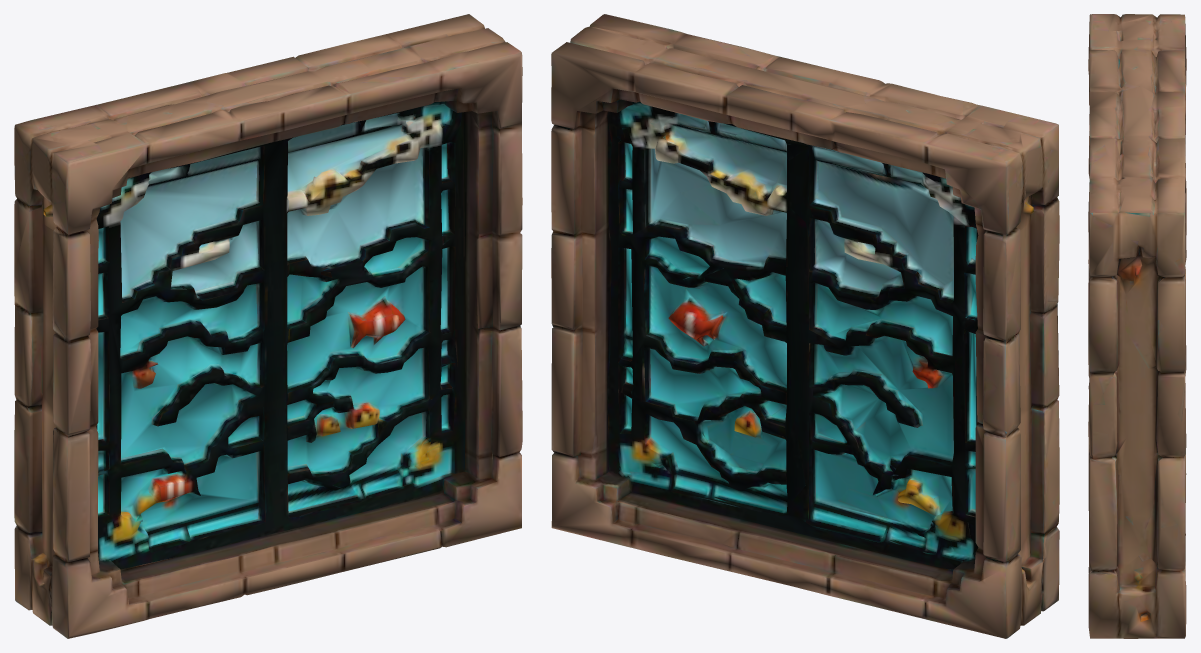
File: vitrail-ocean.glb
3 renders of one model, left to right at view 1: azimuth 30°, elevation 25°; view 2: azimuth 150°, elevation 25°; view 3: azimuth 270°, elevation 25°, orthographic. The views are drawn at different scales.
Visible parts, largest first — view 1: material; view 2: material; view 3: material.
Boxes of the visible parts, x1=… form: material: x1=14, y1=14, x2=522, y2=638; material: x1=551, y1=14, x2=1059, y2=638; material: x1=1088, y1=14, x2=1186, y2=638.
Size of the model in its own units: 0.8445 by 0.8444 by 0.176.
1 material, 1 textured.
